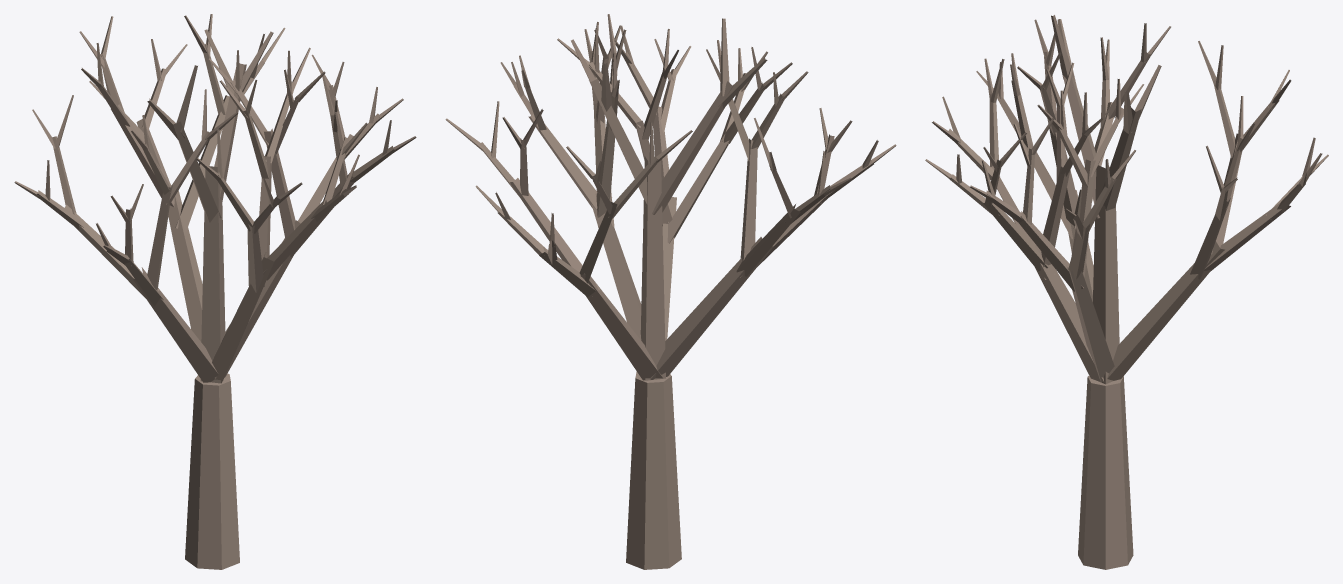
File: tree-blossom-b-bare.glb
3 renders of one model, left to right at view 1: azimuth 30°, elevation 25°; view 2: azimuth 150°, elevation 25°; view 3: azimuth 270°, elevation 25°, orthographic.
Visible parts, largest first — view 1: tree-blossom-b-bare; view 2: tree-blossom-b-bare; view 3: tree-blossom-b-bare.
Boxes of the visible parts, x1=… form: tree-blossom-b-bare: x1=14, y1=14, x2=416, y2=569; tree-blossom-b-bare: x1=445, y1=14, x2=896, y2=569; tree-blossom-b-bare: x1=925, y1=15, x2=1328, y2=569.
Bounding box in the file's own units: 0.7899 × 1.07 × 0.7532.
